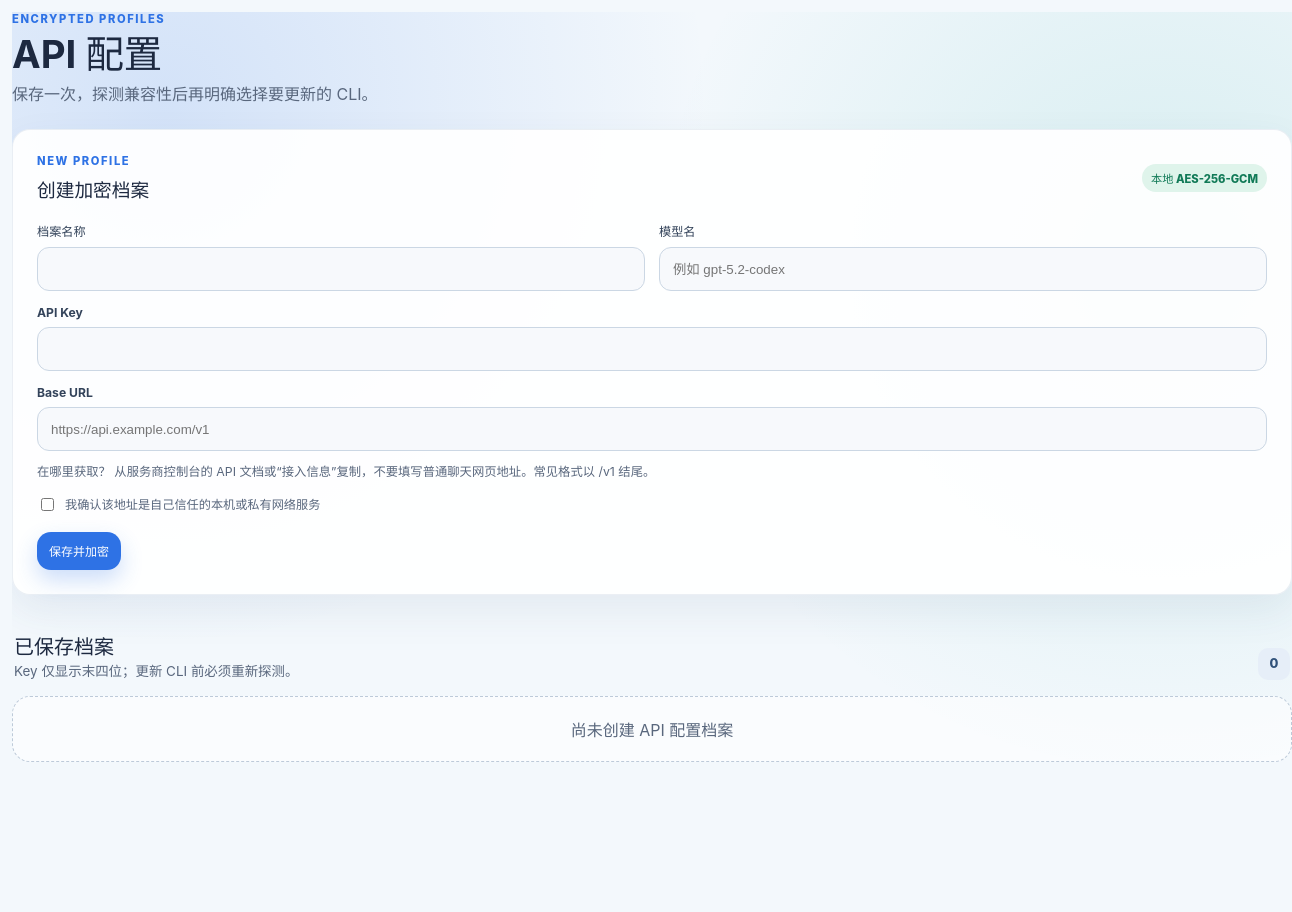
Test case: APIProfilesPage › explains Base URL, validates required fields, saves, and clears the key
Expected: the text "尚未创建 API 配置档案" is shown, 12,696 -> 1291,762
Expected: the text "在哪里获取？ 从服务商控制台的 API 文档或“接入信息”复制，不要填写普通聊天网页地址。常见格式以 /v1 结尾。" is shown, 37,464 -> 655,479
Click the button "保存并加密": (79, 551) 37,532 -> 121,570
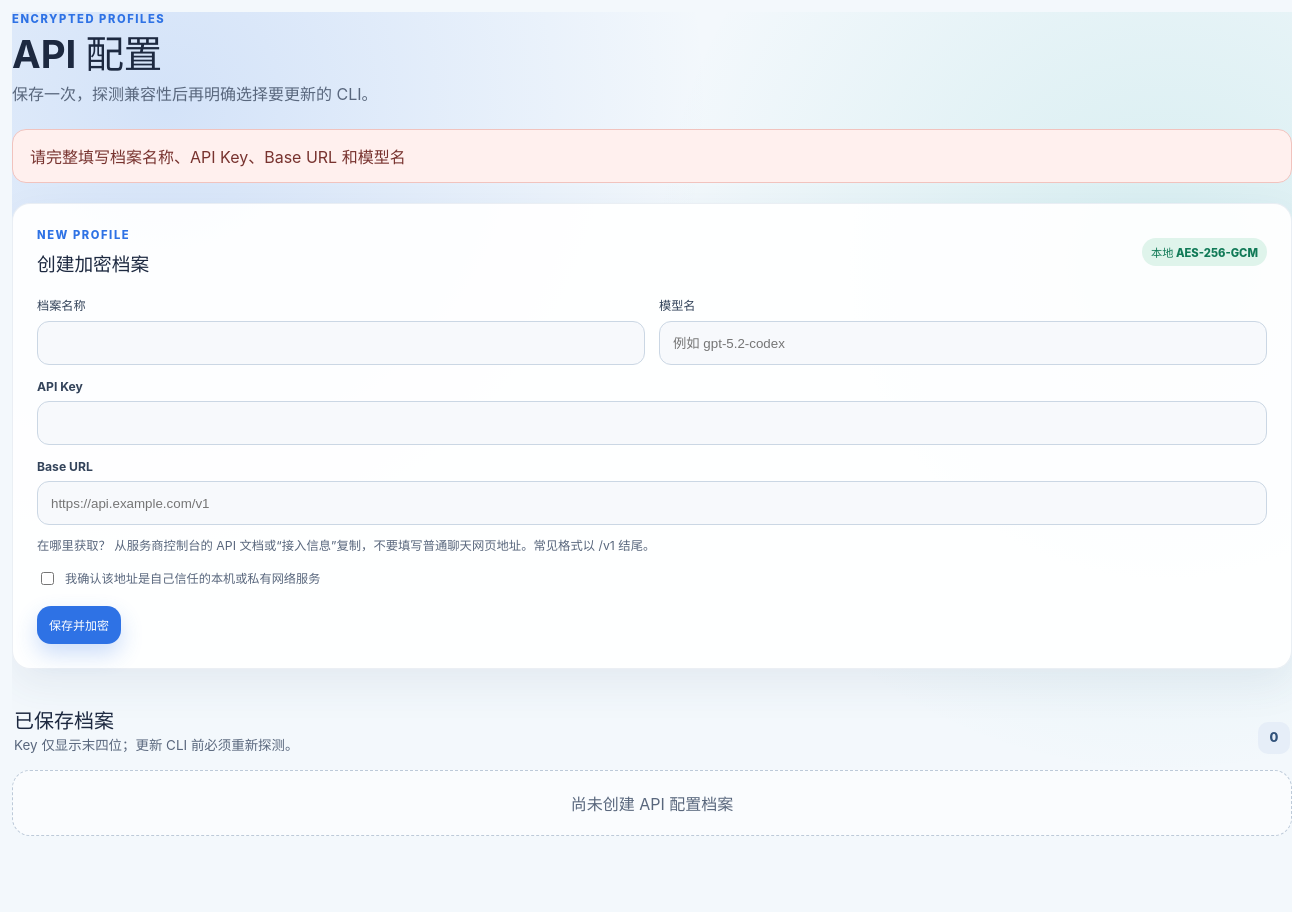
Expected: the message shows "请完整填写", 30,147 -> 406,167
In the field labelled "档案名称": (341, 343) 37,321 -> 645,365, type "工作网关"
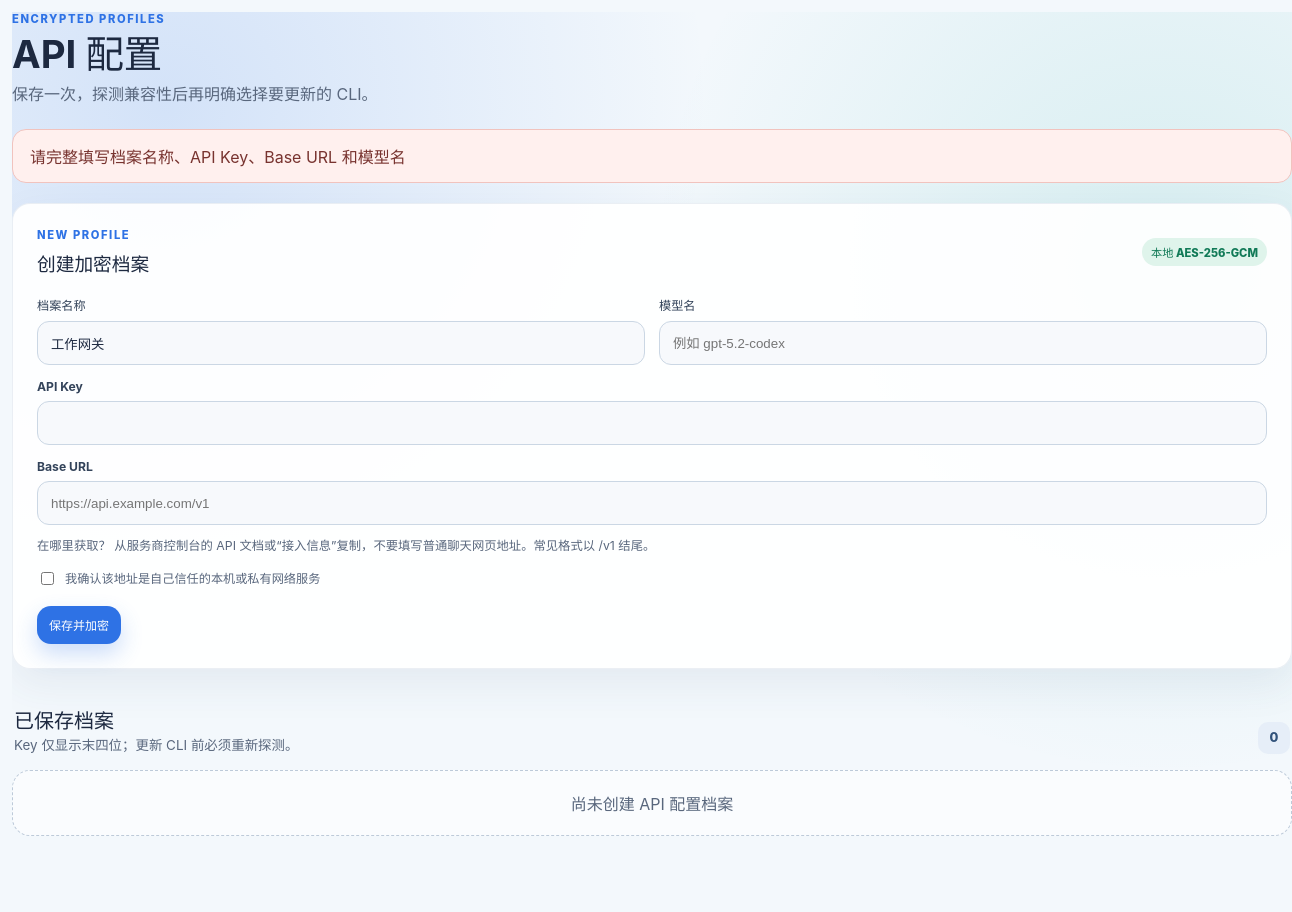
In the field labelled "模型名": (963, 343) 659,321 -> 1267,365, type "gpt-test"
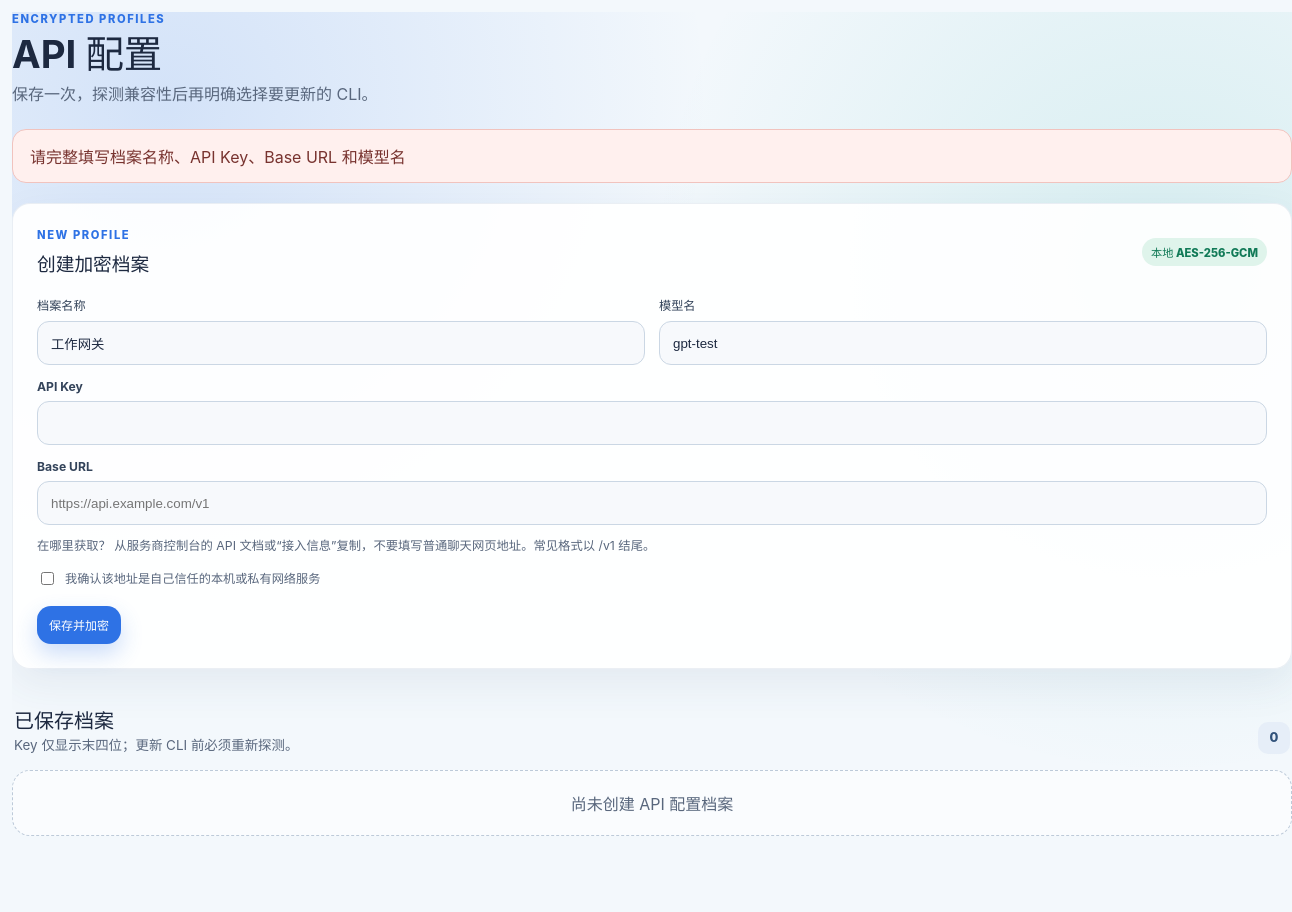
In the password field labelled "API Key": (652, 423) 37,401 -> 1267,445, type "secret-key-1234"
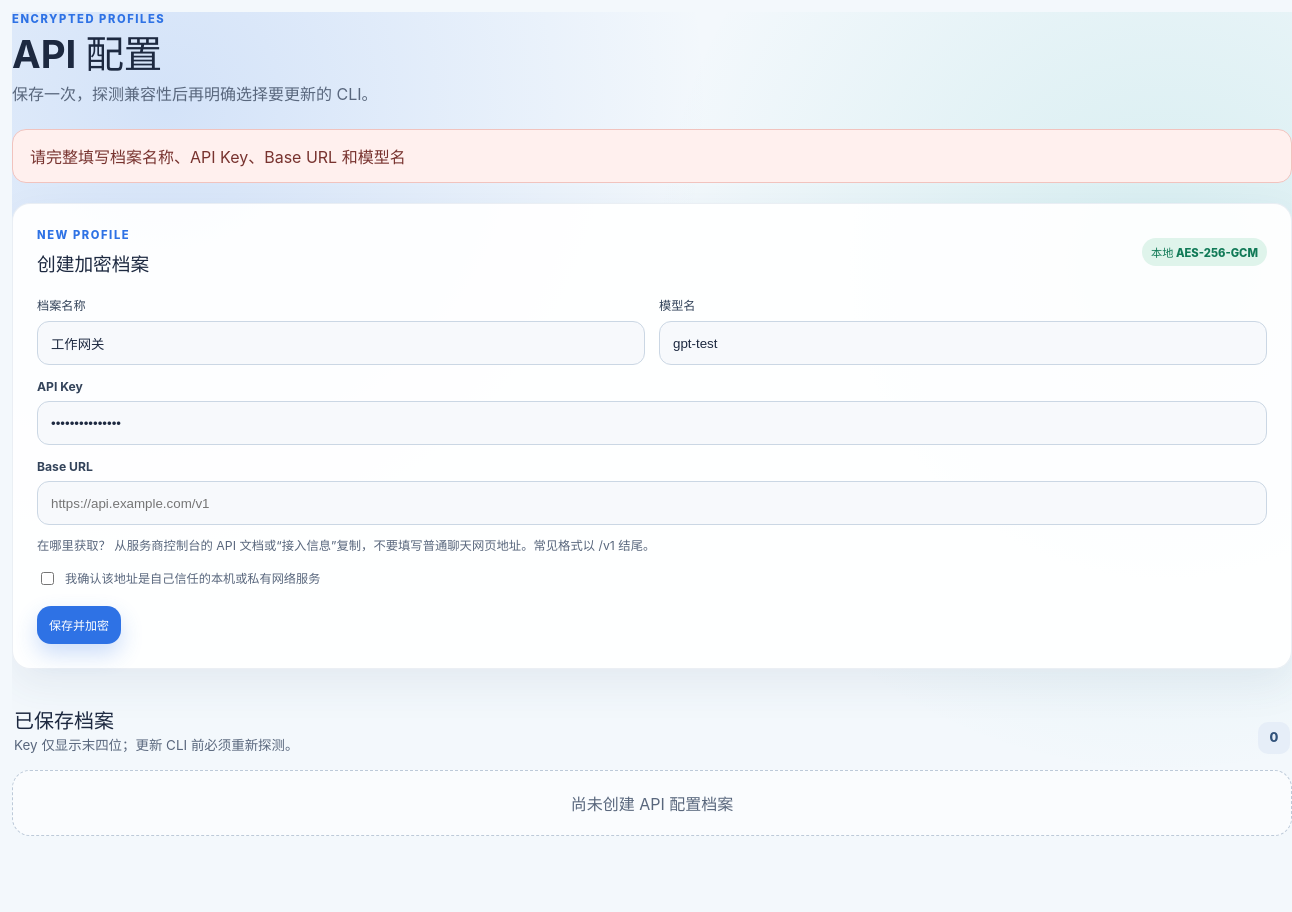
In the field labelled "Base URL": (652, 503) 37,481 -> 1267,525, type "https://api.example/v1"
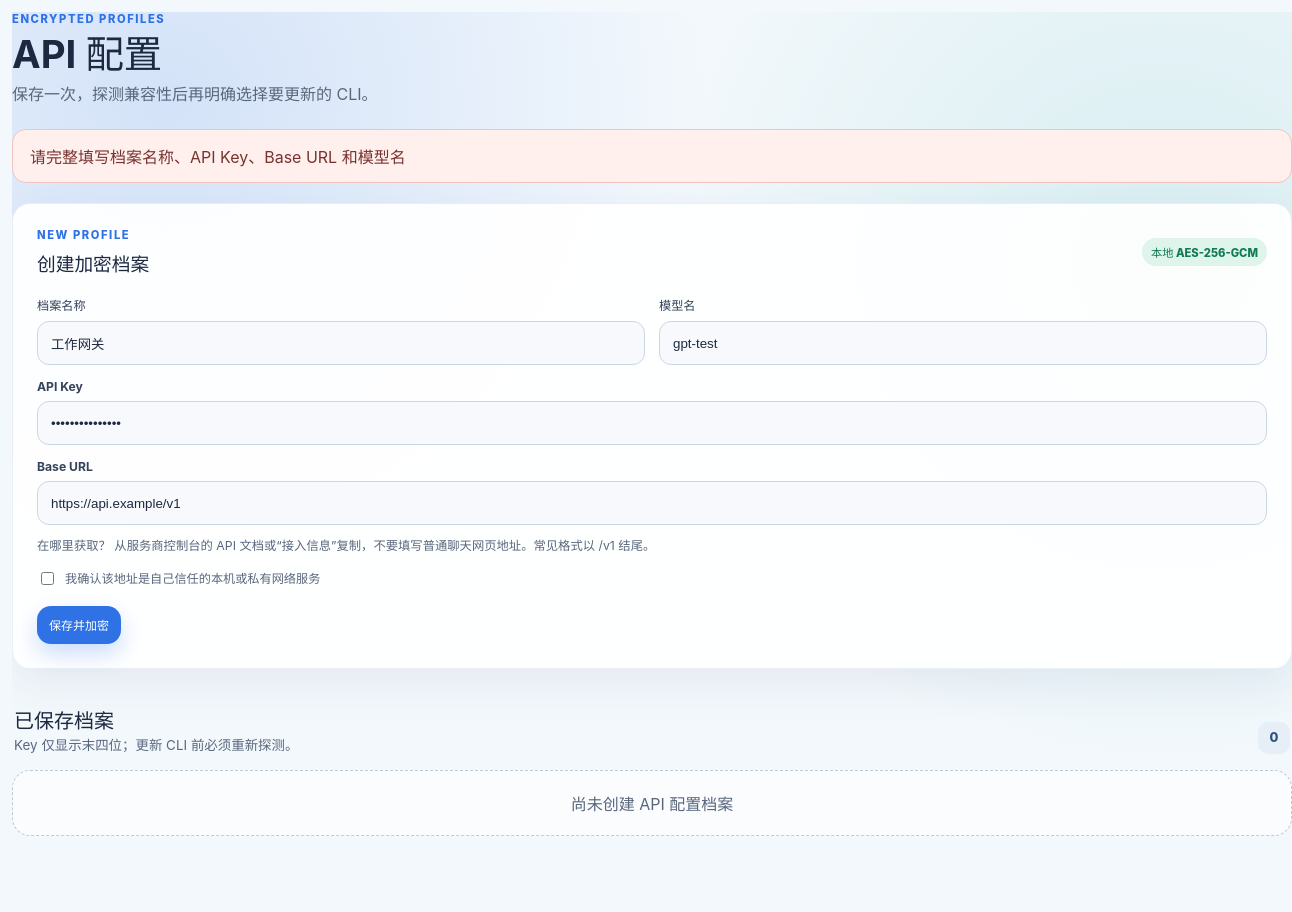
Click the button "保存并加密": (79, 625) 37,606 -> 121,644
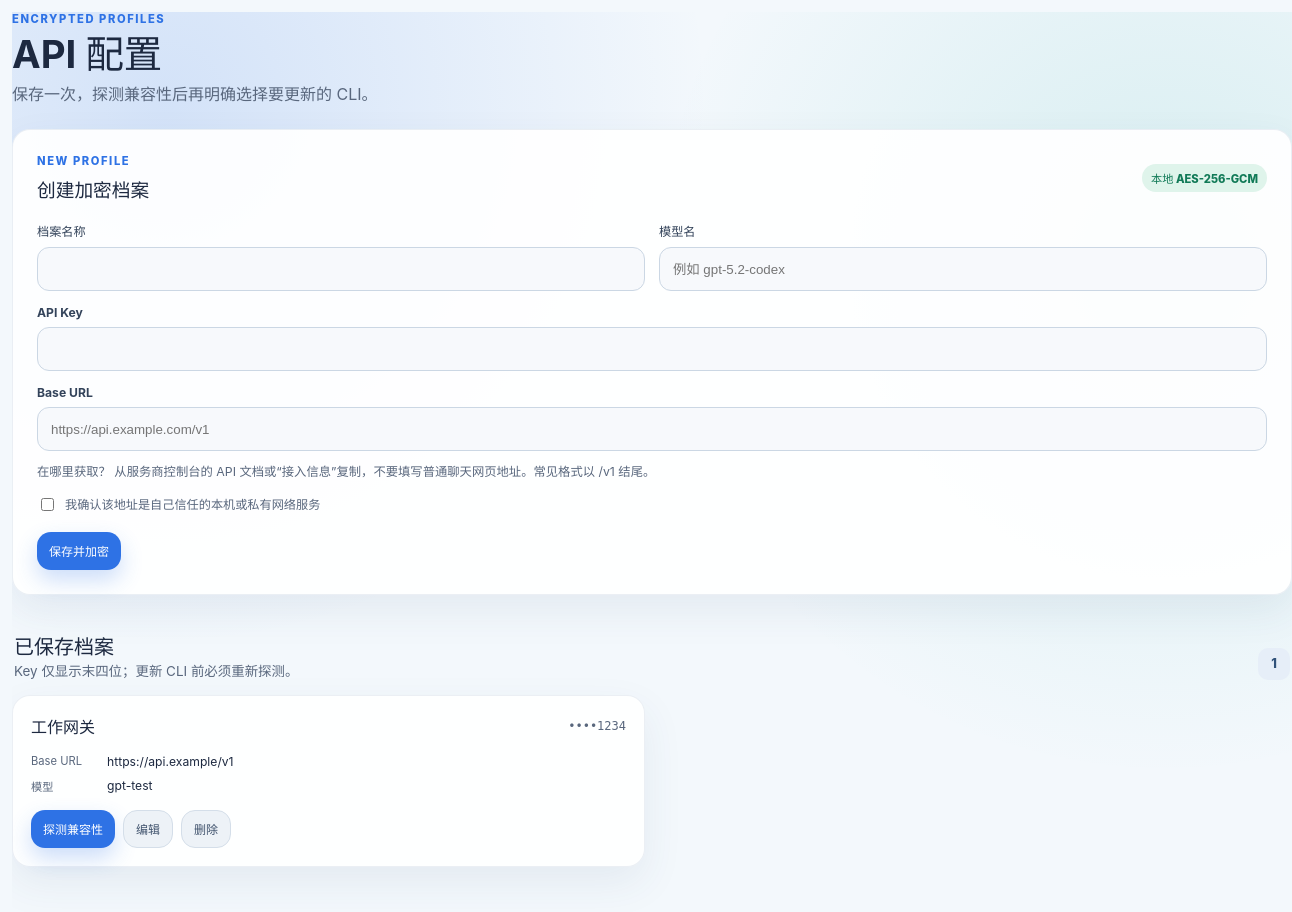
Expected: the text "••••1234" is shown, 568,719 -> 626,733
Expected: the password field labelled "API Key" is empty, 37,327 -> 1267,371
